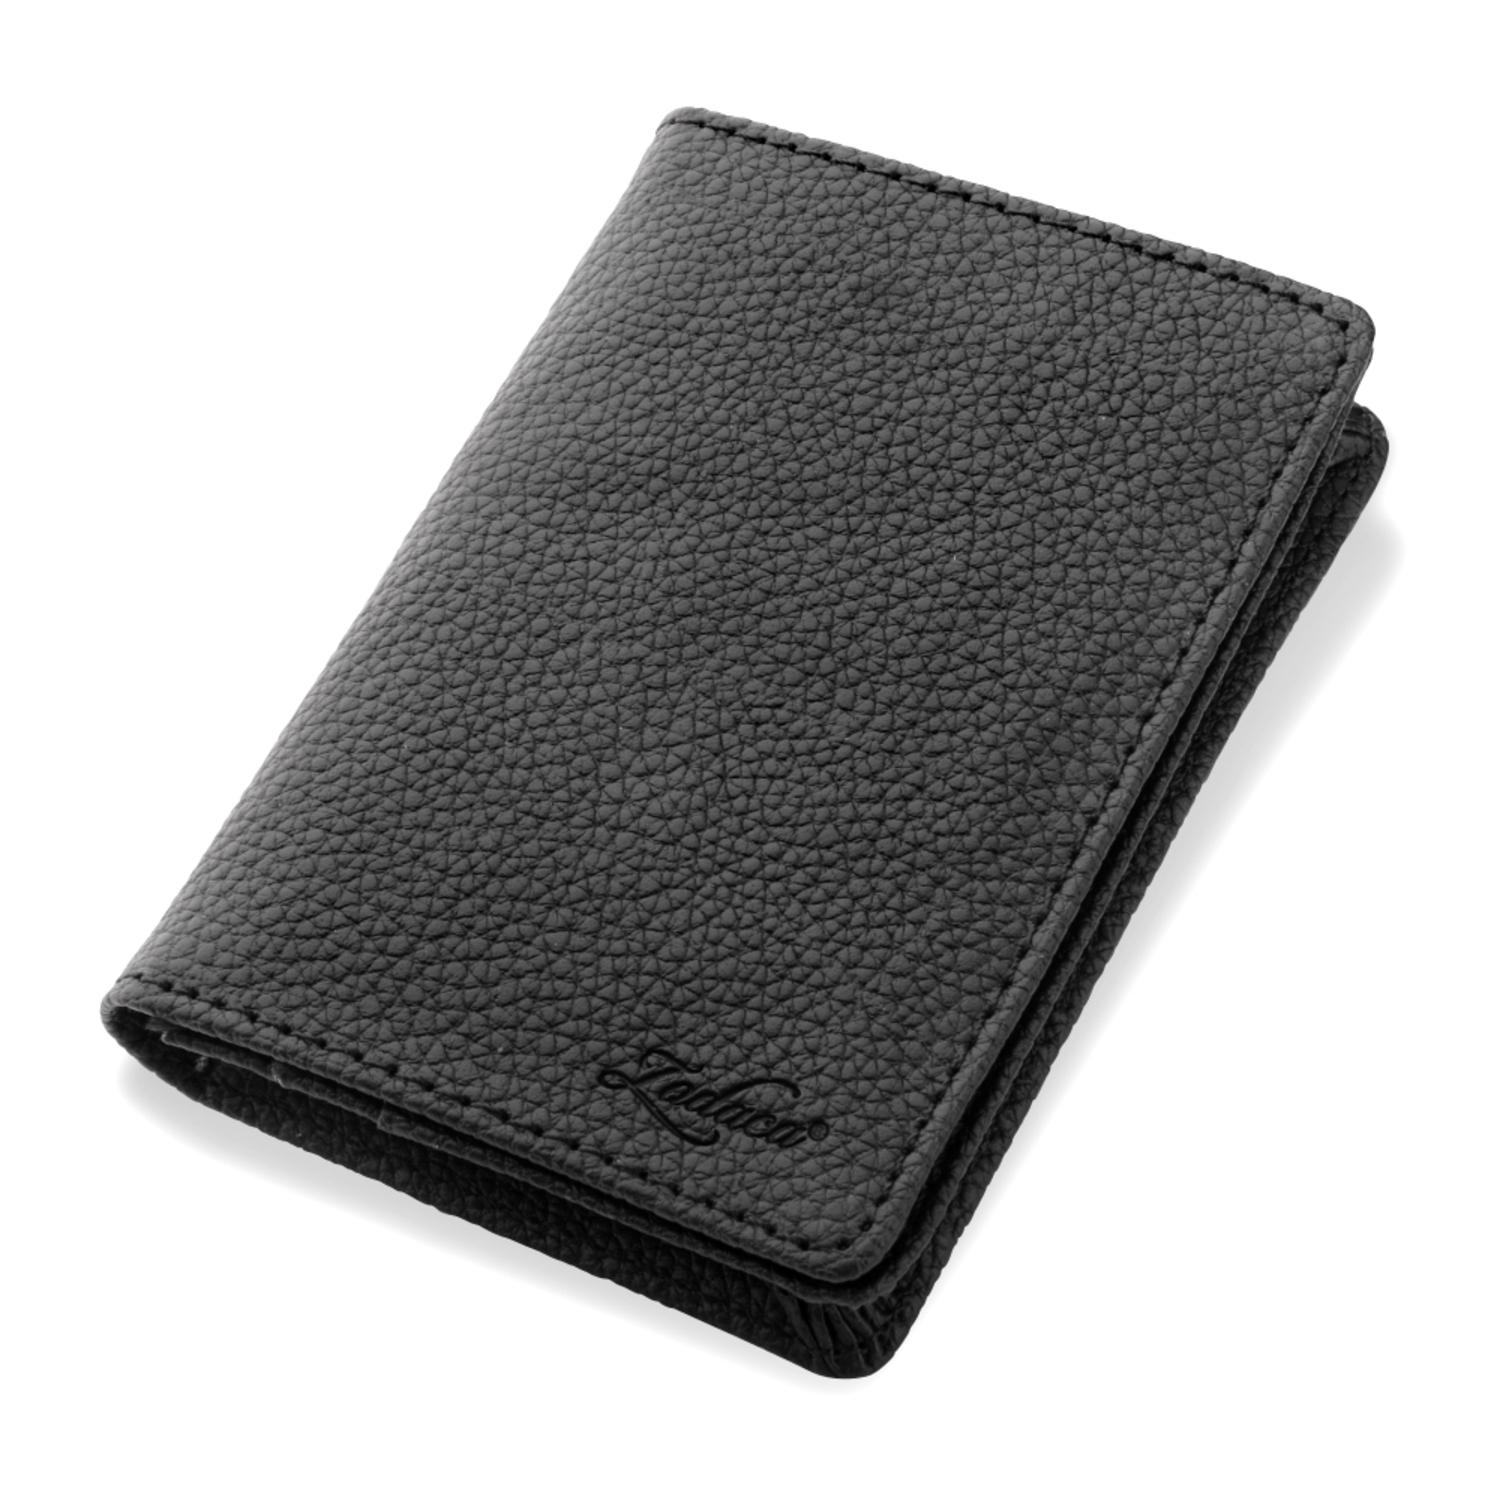monedero: (96, 99, 1394, 1390)
